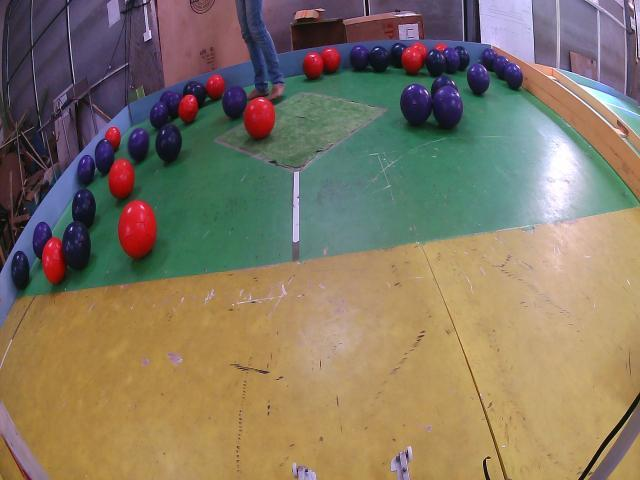jambhalya: (432, 85, 464, 128), (400, 83, 432, 125), (222, 85, 246, 118), (32, 222, 52, 258), (468, 63, 490, 95), (128, 128, 149, 160), (160, 90, 181, 118), (504, 62, 522, 90), (350, 45, 370, 70), (150, 102, 169, 128), (78, 155, 95, 184), (442, 47, 460, 73), (481, 47, 498, 72), (494, 55, 509, 80)
kaalyya: (62, 222, 91, 270), (155, 123, 182, 162), (72, 188, 96, 228), (11, 252, 30, 290), (95, 138, 114, 173), (430, 75, 458, 98), (425, 48, 446, 77), (370, 47, 390, 72), (189, 82, 206, 108), (390, 42, 406, 68), (455, 45, 470, 72), (182, 80, 196, 96)
